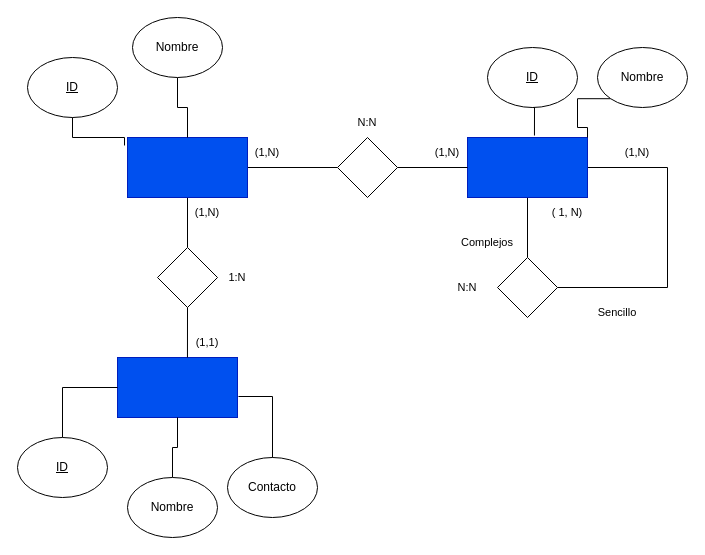
Image size: 705x555. Some labels were removed from this diagram. The box of each missing label's shape, as (x1, y1, x2, y2) in pixels:
Componentes: (466, 136, 588, 198)
Materia Prima: (126, 136, 248, 198)
Proveedor: (116, 356, 238, 418)
